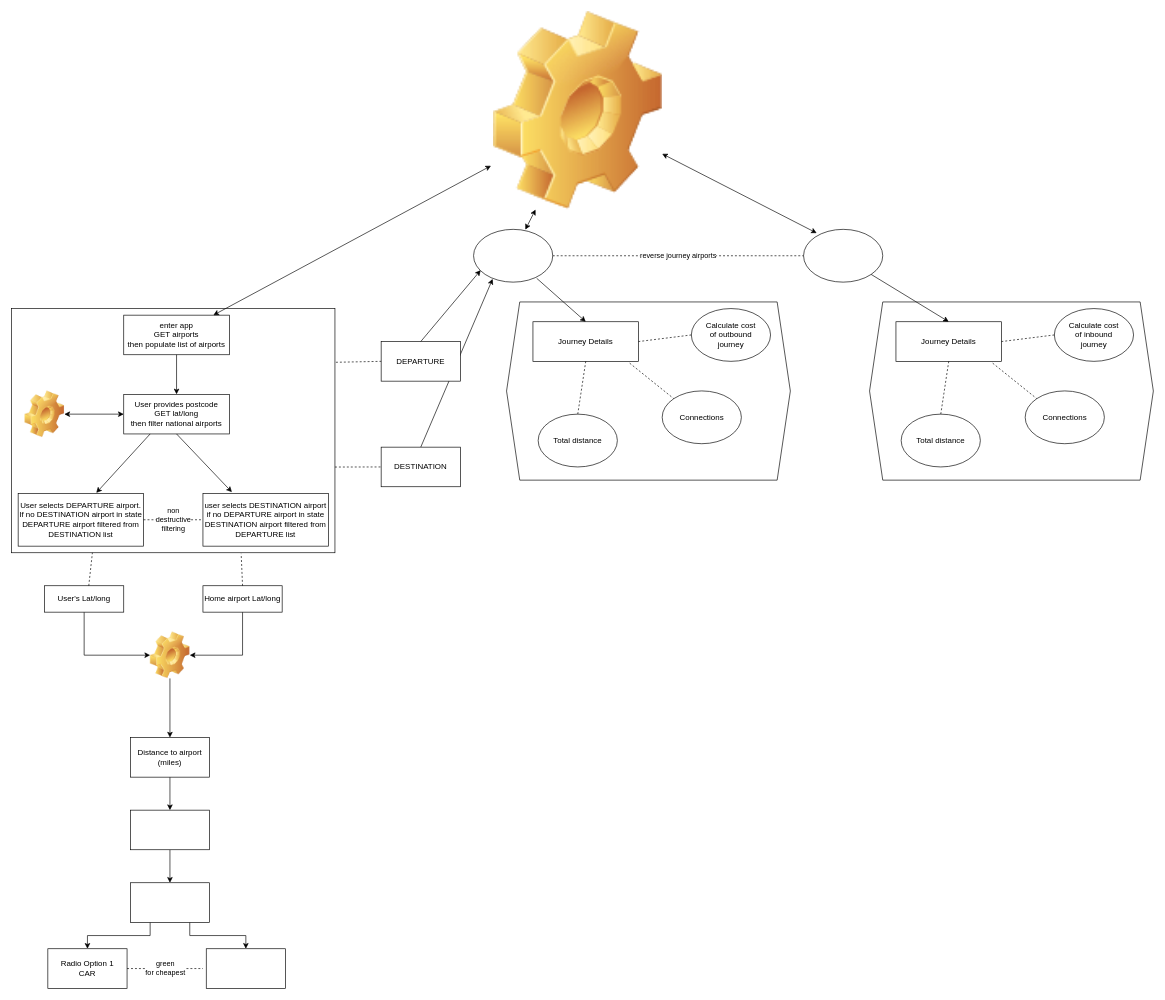
Some shapes in this 1165 by 1000 pixel diagram are drawn without their labels. Each missing label, with the box of its shape:
API: (493, 11, 662, 209)
Calculates CAR / TAXI cost in background: (130, 882, 210, 922)
GET inbound journey: (803, 229, 883, 282)
GET outbound journey: (473, 229, 553, 282)
Google api: (24, 391, 64, 437)
Radio Option 2 TAXI: (206, 948, 285, 988)
TOM TOM Distance API: (150, 632, 189, 678)
User enters number of passengers: (130, 809, 210, 850)
